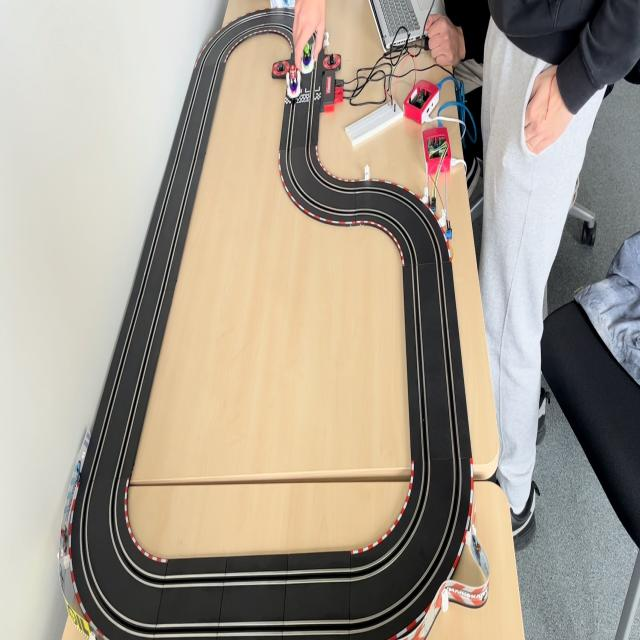mario: (287, 64, 301, 101)
yoshi: (299, 38, 317, 75)
